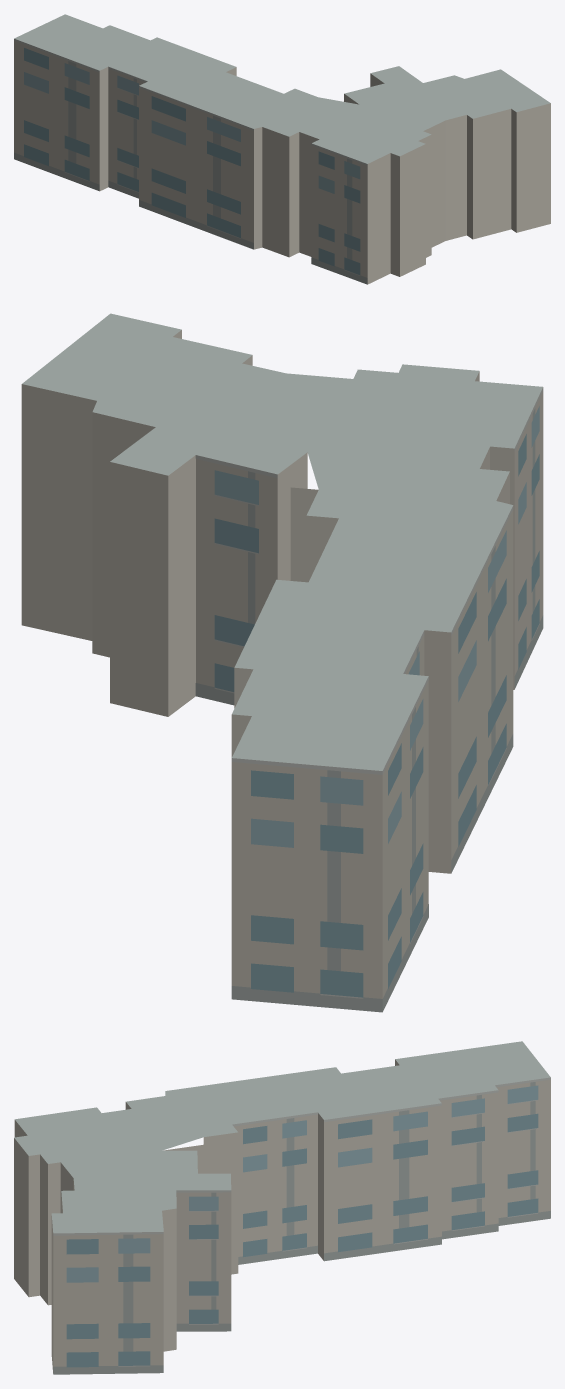
The model's file is residential-ed36e5d8-d74b-499f-8338-6336f39db891.glb.
The picture shows the model from 3 angles, top to bottom: view 1: azimuth 30°, elevation 25°; view 2: azimuth 150°, elevation 25°; view 3: azimuth 270°, elevation 25°; orthographic projection. The views are drawn at different scales.
Visible parts, largest first — view 1: residential-ed36e5d8-d74b-499f-8338-6336f39db891.tmp; view 2: residential-ed36e5d8-d74b-499f-8338-6336f39db891.tmp; view 3: residential-ed36e5d8-d74b-499f-8338-6336f39db891.tmp.
Part boxes in pixels (x1,y1,x2,y2): residential-ed36e5d8-d74b-499f-8338-6336f39db891.tmp: (14, 14, 550, 284); residential-ed36e5d8-d74b-499f-8338-6336f39db891.tmp: (21, 313, 543, 1012); residential-ed36e5d8-d74b-499f-8338-6336f39db891.tmp: (14, 1041, 550, 1374).
Bounding box in the file's own units: 44.52 × 15.25 × 52.55.
